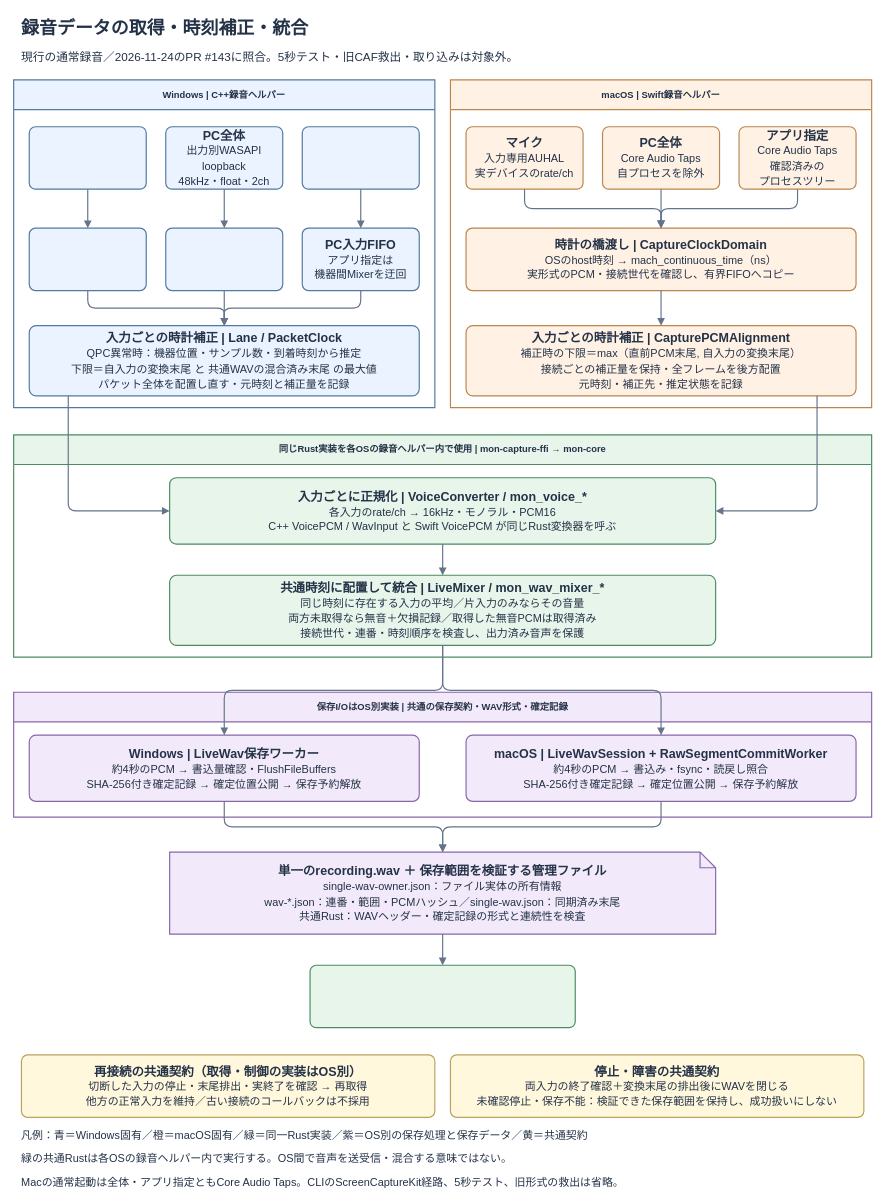
The diagram is 893 pixels wide and 1204 high, and some of its shapes have lost their labels. Each missing label, with the centre of its shape:
PC機器間の補正 機器別PacketClock EndpointMixer 加算・振幅制限: (224,259)
アプリ指定 process loopback 48kHz・float・2ch: (360,157)
アプリ本体でPCMのSHA-256を照合 公開範囲を読取り・チェックポイントと比較 終了後に同じWAVを採用・会議へ登録: (442,996)
マイク WASAPI取得 48kHz・float・1ch: (87,157)
マイク専用FIFO 取得と停止・解放 同じ所有スレッド: (87,259)
